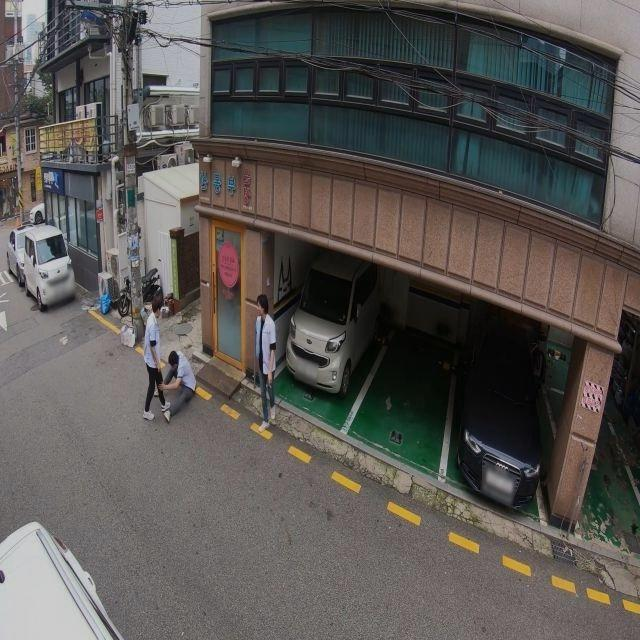fight: (139, 295, 198, 422)
non-fight: (252, 292, 280, 428)
